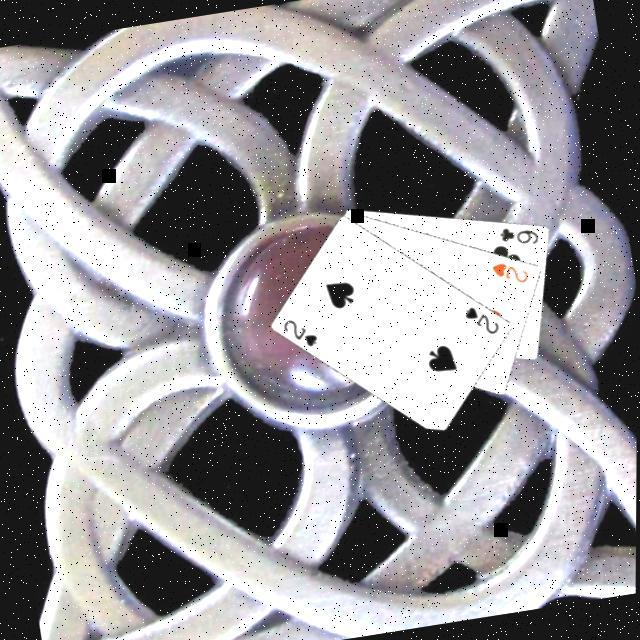2H: (488, 256, 532, 292)
2S: (278, 313, 322, 355), (461, 300, 504, 342)
6C: (494, 220, 542, 253)
